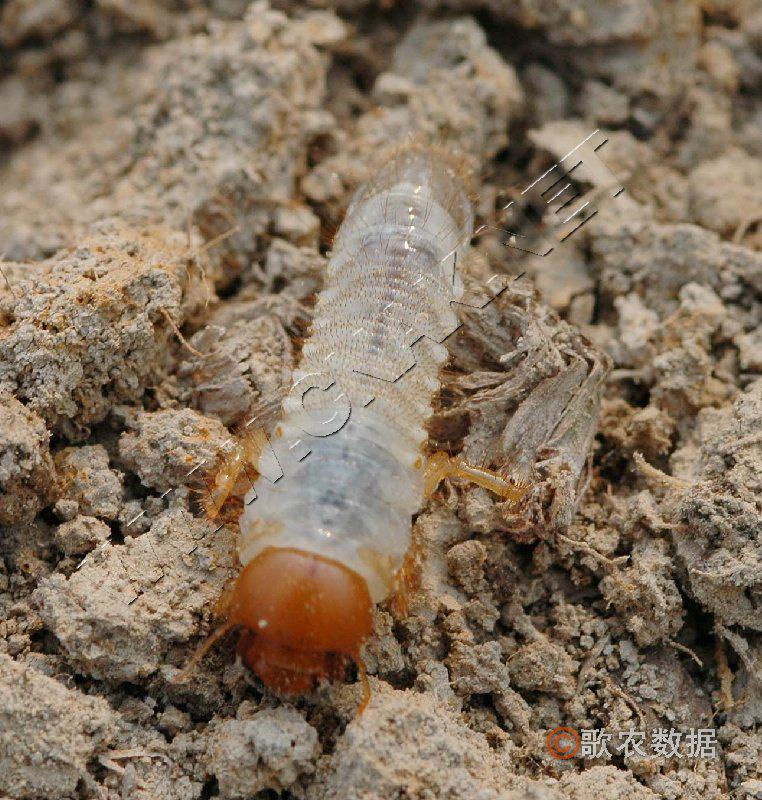grub: (208, 38, 471, 700)
